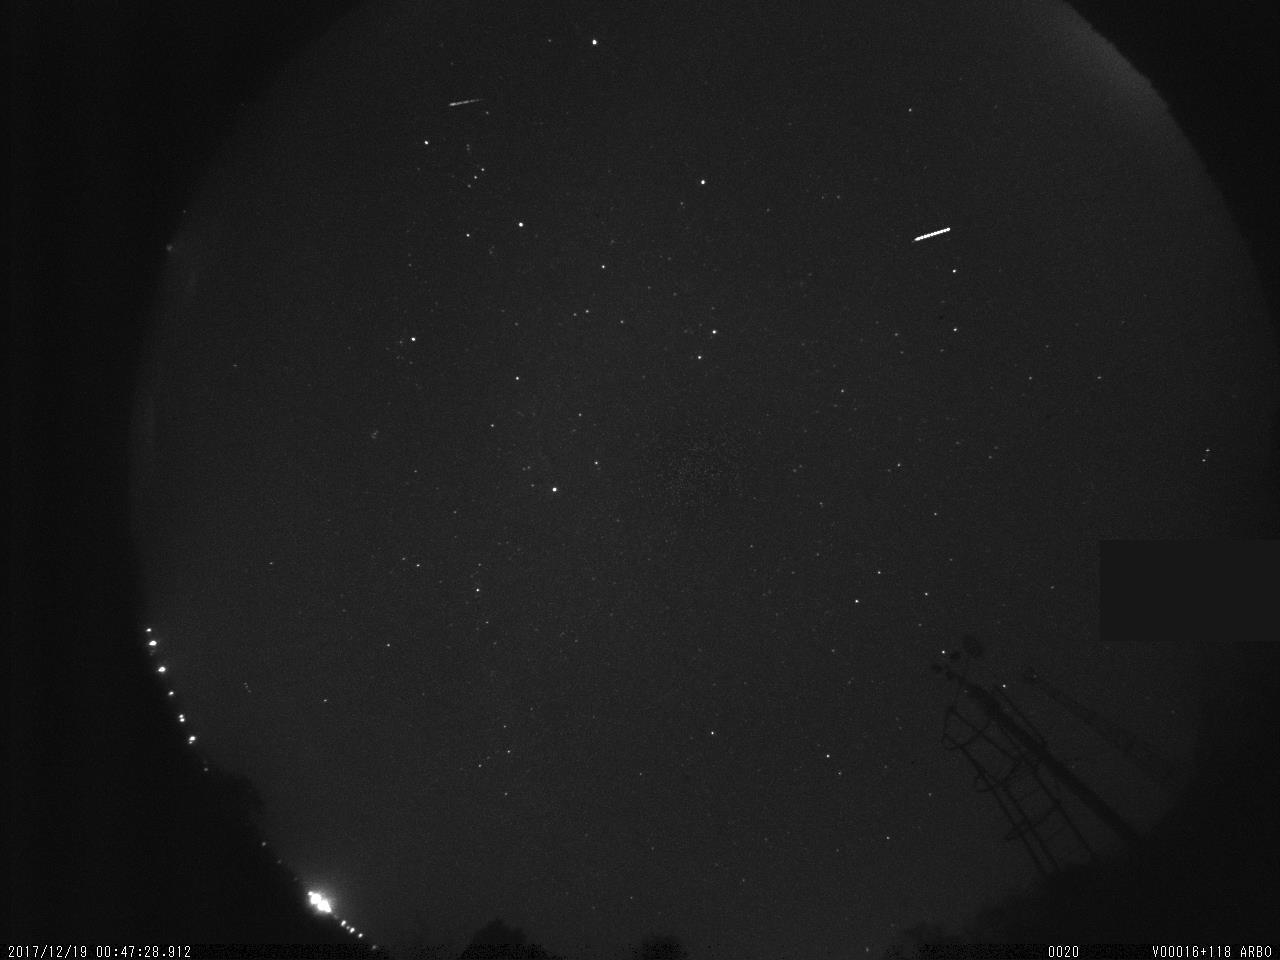meteor: (444, 89, 487, 115)
satelite: (910, 221, 958, 251)
